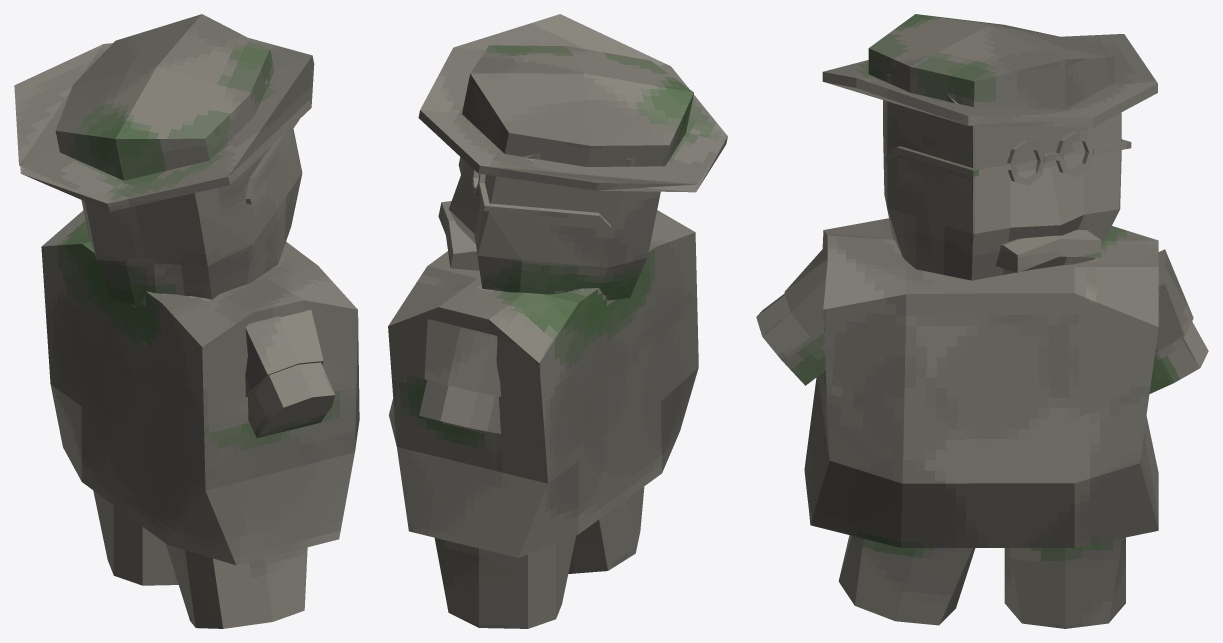
File: owner_statue.glb
3 views of the same model, side by side, from view 1: azimuth 30°, elevation 25°; view 2: azimuth 150°, elevation 25°; view 3: azimuth 270°, elevation 25° (orthographic). The views are drawn at different scales.
Parts seen in each view (by area): view 1: OwnerStatue; view 2: OwnerStatue; view 3: OwnerStatue.
Boxes of the visible parts, x1,y1,x2,y2 form: OwnerStatue: (14,14,359,628); OwnerStatue: (388,14,727,628); OwnerStatue: (756,14,1208,628).
Bounding box in the file's own units: 0.2208 × 0.3994 × 0.2882.
1 material, 1 textured.
